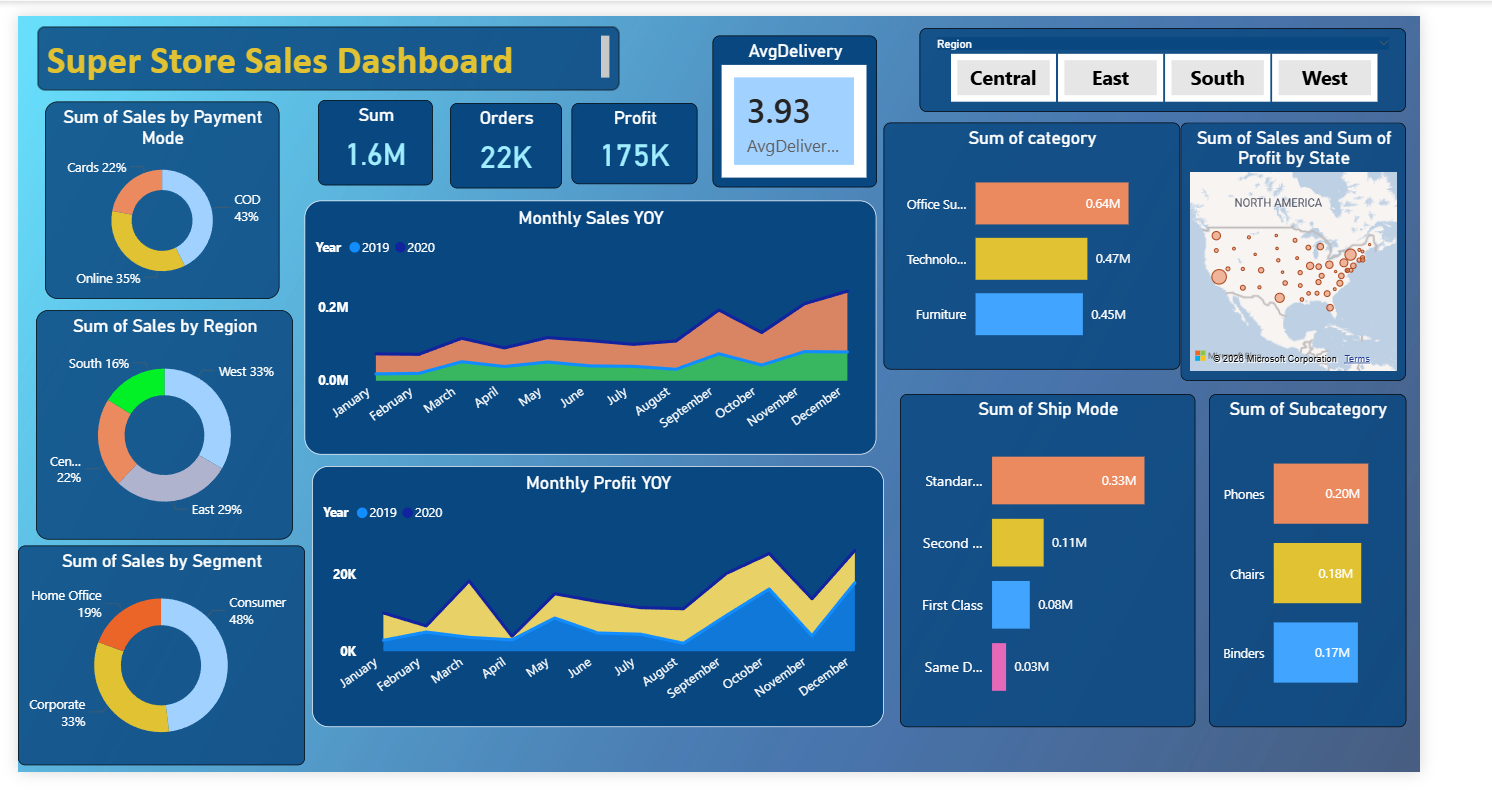

What the dashboard file says about the page in this screenshot:
{"tool":"powerbi","page":{"name":"Page 1","canvas":[1310,720],"ordinal":0},"visuals":[{"type":"clusteredBarChart","title":"Sum of category","fields":{"Category":["SuperStore_Sales_Dataset (2).Category"],"Y":["Sum(SuperStore_Sales_Dataset (2).Sales)"]},"box":[824.5,101.4,282.5,235.2],"z":0},{"type":"clusteredBarChart","title":"Sum of Subcategory","fields":{"Category":["SuperStore_Sales_Dataset (2).Sub-Category"],"Y":["Sum(SuperStore_Sales_Dataset (2).Sales)"]},"box":[1134.1,359.6,187.9,317.7],"z":1000},{"type":"clusteredBarChart","title":"Sum of Ship Mode","fields":{"Y":["Sum(SuperStore_Sales_Dataset (2).Sales)"],"Category":["SuperStore_Sales_Dataset (2).Ship Mode"]},"box":[839.4,359.6,281.2,317.7],"z":2000},{"type":"stackedAreaChart","title":"Monthly Sales YOY","fields":{"Y":["Sum(SuperStore_Sales_Dataset (2).Sales)"],"Category":["SuperStore_Sales_Dataset (2).Order Date.Variation.Date Hierarchy.Month","SuperStore_Sales_Dataset (2).Order Date.Variation.Date Hierarchy.Day"],"Series":["SuperStore_Sales_Dataset (2).Order Date.Variation.Date Hierarchy.Year"]},"box":[273,175.7,544.7,242],"z":3000},{"type":"stackedAreaChart","title":"Monthly Profit YOY","fields":{"Category":["SuperStore_Sales_Dataset (2).Order Date.Variation.Date Hierarchy.Month","SuperStore_Sales_Dataset (2).Order Date.Variation.Date Hierarchy.Day"],"Series":["SuperStore_Sales_Dataset (2).Order Date.Variation.Date Hierarchy.Year"],"Y":["Sum(SuperStore_Sales_Dataset (2).Profit)"]},"box":[279.8,428.5,544.7,248.7],"z":4000},{"type":"map","fields":{"Category":["SuperStore_Sales_Dataset (2).State"],"Size":["Sum(SuperStore_Sales_Dataset (2).Sales)"]},"box":[1107.1,101.4,214.9,246],"z":5000},{"type":"donutChart","fields":{"Category":["SuperStore_Sales_Dataset (2).Segment"],"Y":["Sum(SuperStore_Sales_Dataset (2).Sales)"]},"box":[0,504.2,273,209.5],"z":6000},{"type":"donutChart","fields":{"Y":["Sum(SuperStore_Sales_Dataset (2).Sales)"],"Category":["SuperStore_Sales_Dataset (2).Region"]},"box":[17.6,279.8,244.7,219],"z":7000},{"type":"slicer","fields":{"Values":["SuperStore_Sales_Dataset (2).Region"]},"box":[858.3,10.8,463.6,79.8],"z":8000},{"type":"textbox","box":[18.2,10.6,554.2,60.6],"z":9000},{"type":"card","title":"Sum","fields":{"Values":["Sum(SuperStore_Sales_Dataset (2).Sales)"]},"box":[285.2,79.8,109.5,81.1],"z":10000},{"type":"card","title":"Orders","fields":{"Values":["Sum(SuperStore_Sales_Dataset (2).Quantity)"]},"box":[410.9,82.5,106.8,81.1],"z":11000},{"type":"card","title":"Profit","fields":{"Values":["Sum(SuperStore_Sales_Dataset (2).Profit)"]},"box":[527.2,82.5,120.3,77],"z":13000},{"type":"donutChart","fields":{"Y":["Sum(SuperStore_Sales_Dataset (2).Sales)"],"Category":["SuperStore_Sales_Dataset (2).Payment Mode"]},"box":[25.7,81.1,223,187.9],"z":14000},{"type":"cardVisual","title":"AvgDelivery","fields":{"Data":["SuperStore_Sales_Dataset (2).AvgDelivery_Direct"]},"box":[661,18.9,156.8,144.6],"z":14001}]}

Visuals, with their boxes in screenshot pixels (x1, y1, x2, y2), scaled from the page's 1310x720 canvas onto the 1492x799 screenshot:
"Sum of category" clusteredBarChart: {"left": 939, "top": 113, "right": 1261, "bottom": 374}
"Sum of Subcategory" clusteredBarChart: {"left": 1292, "top": 399, "right": 1491, "bottom": 752}
"Sum of Ship Mode" clusteredBarChart: {"left": 956, "top": 399, "right": 1276, "bottom": 752}
"Monthly Sales YOY" stackedAreaChart: {"left": 311, "top": 195, "right": 931, "bottom": 464}
"Monthly Profit YOY" stackedAreaChart: {"left": 319, "top": 476, "right": 939, "bottom": 752}
map - SuperStore_Sales_Dataset (2).State x Sum(SuperStore_Sales_Dataset (2).Sales): {"left": 1261, "top": 113, "right": 1491, "bottom": 386}
donutChart - SuperStore_Sales_Dataset (2).Segment x Sum(SuperStore_Sales_Dataset (2).Sales): {"left": 0, "top": 560, "right": 311, "bottom": 792}
donutChart - Sum(SuperStore_Sales_Dataset (2).Sales) x SuperStore_Sales_Dataset (2).Region: {"left": 20, "top": 311, "right": 299, "bottom": 554}
slicer - SuperStore_Sales_Dataset (2).Region: {"left": 978, "top": 12, "right": 1491, "bottom": 101}
textbox: {"left": 21, "top": 12, "right": 652, "bottom": 79}
"Sum" card: {"left": 325, "top": 89, "right": 450, "bottom": 179}
"Orders" card: {"left": 468, "top": 92, "right": 590, "bottom": 182}
"Profit" card: {"left": 600, "top": 92, "right": 737, "bottom": 177}
donutChart - Sum(SuperStore_Sales_Dataset (2).Sales) x SuperStore_Sales_Dataset (2).Payment Mode: {"left": 29, "top": 90, "right": 283, "bottom": 299}
"AvgDelivery" cardVisual: {"left": 753, "top": 21, "right": 931, "bottom": 181}
